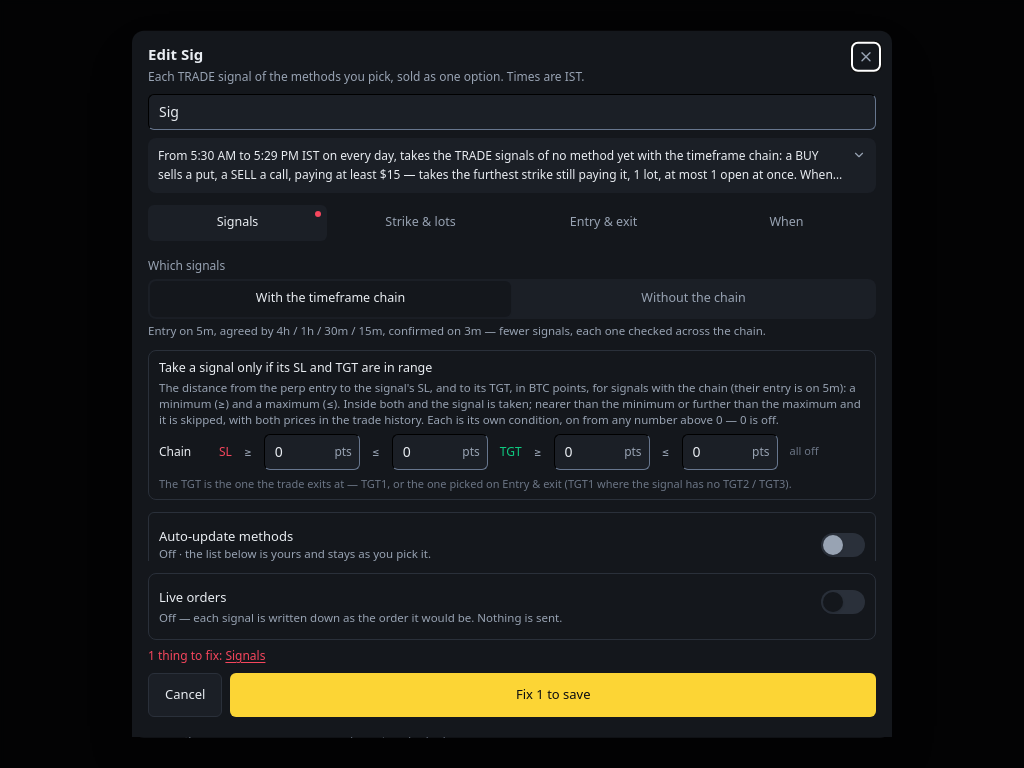
it: picking the methods › [critical] the 81 come from the server, each with its record in the chosen way
The image size is (1024, 768).
Click the tab "Signals". click: {"x": 238, "y": 222}
box: [148,204,327,240]
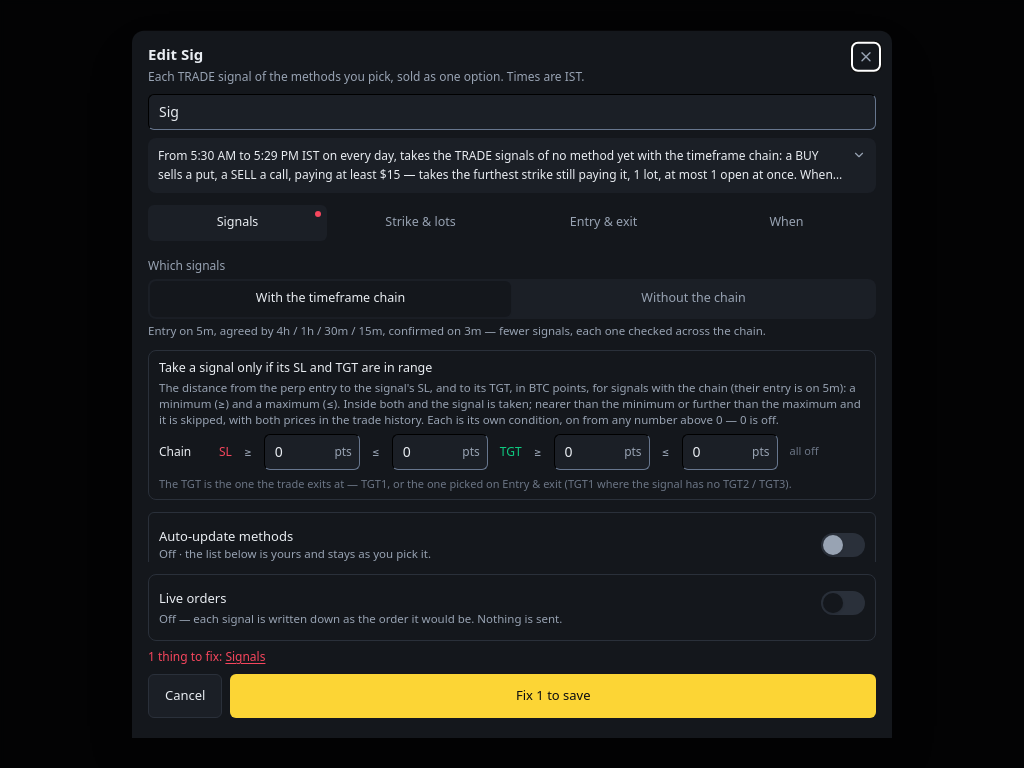
Now the text "0 of 4 picked" is shown, box [808,586,876,603]
